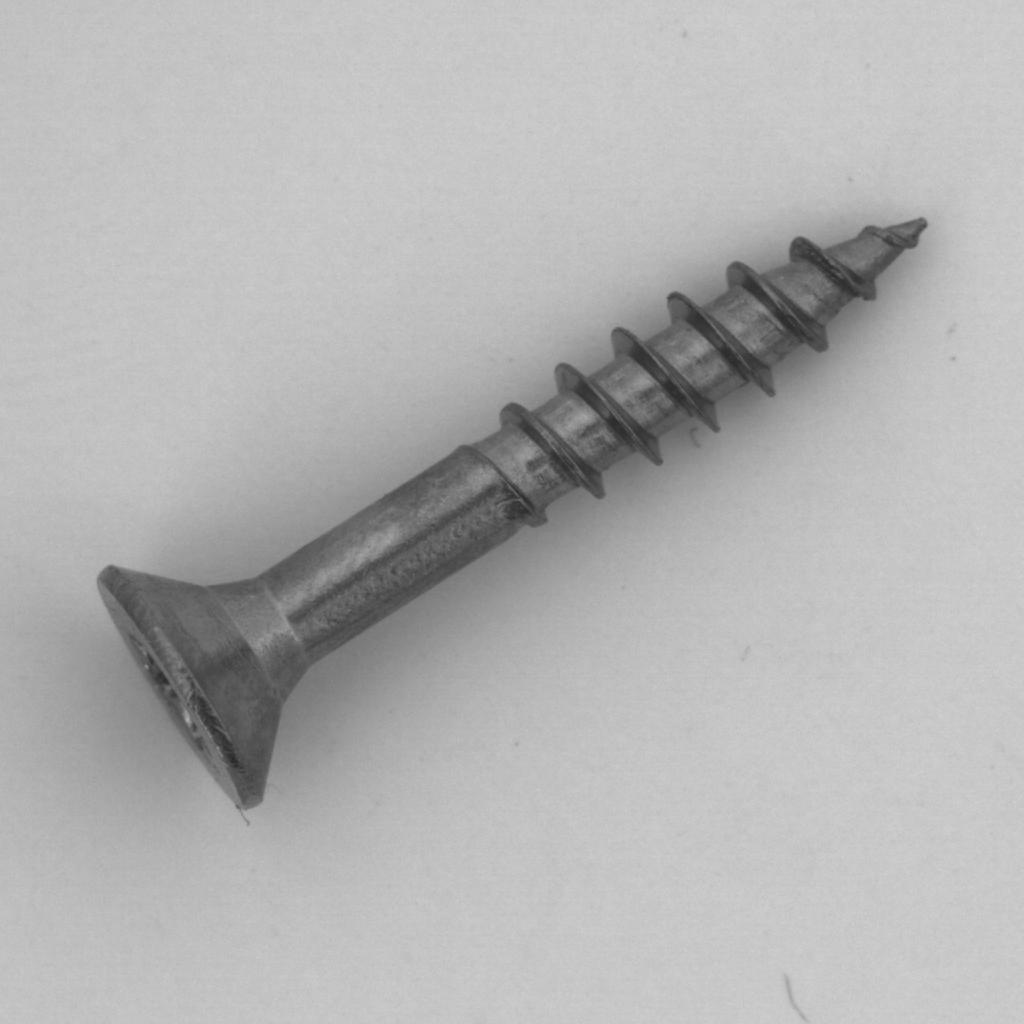good: (83, 186, 949, 828)
